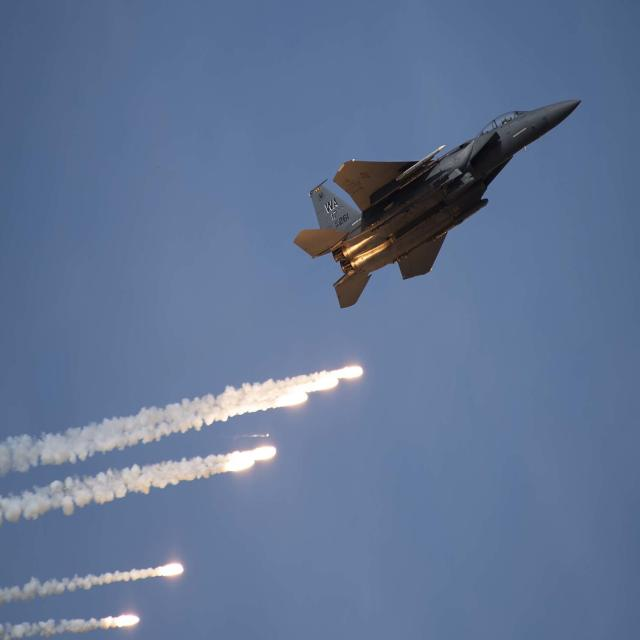MIL_Plane: (294, 99, 582, 308)
